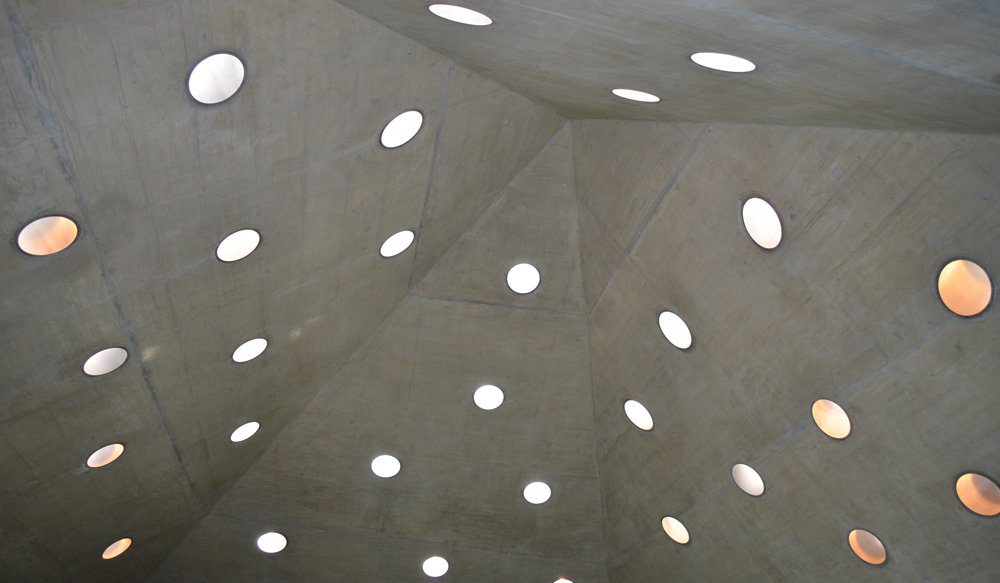hole: (931, 254, 996, 322), (14, 202, 84, 263), (184, 51, 251, 109), (738, 191, 786, 254), (806, 395, 858, 447), (376, 105, 427, 155), (686, 49, 760, 80), (215, 222, 262, 269), (425, 2, 496, 32), (655, 307, 698, 355), (79, 341, 133, 379), (843, 527, 890, 570), (727, 461, 767, 501), (656, 508, 693, 550), (83, 440, 127, 474), (377, 228, 418, 264), (620, 396, 657, 435), (504, 261, 544, 297), (230, 334, 270, 370), (471, 383, 510, 417), (609, 86, 663, 110), (365, 451, 403, 483), (518, 477, 554, 510), (253, 527, 290, 558), (228, 416, 264, 447), (99, 534, 134, 564), (422, 555, 451, 582)
